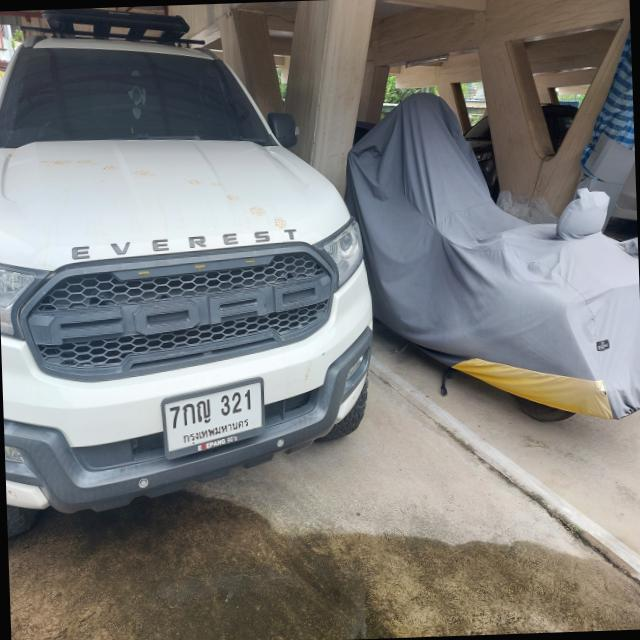license_plate: (160, 376, 271, 462)
